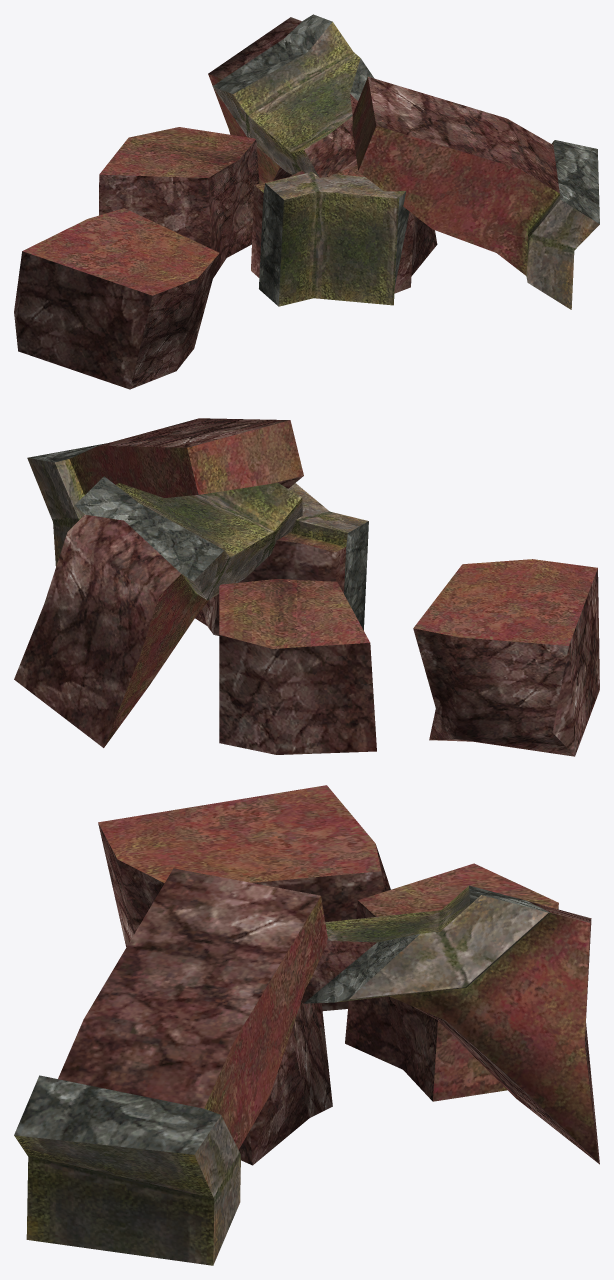
File: fortressa_wall_bk03.glb
The picture shows the model from 3 angles, top to bottom: view 1: azimuth 30°, elevation 25°; view 2: azimuth 150°, elevation 25°; view 3: azimuth 270°, elevation 25°; orthographic projection. The views are drawn at different scales.
Parts seen in each view (by area): view 1: fortressA_wall_bk03; view 2: fortressA_wall_bk03; view 3: fortressA_wall_bk03.
Part boxes in pixels (x1,y1,x2,y2): fortressA_wall_bk03: (14,14,599,389); fortressA_wall_bk03: (14,418,599,756); fortressA_wall_bk03: (14,785,599,1265).
Bounding box in the file's own units: 10.74 × 3.92 × 6.97.
Materials: 2 (2 with a texture image).
